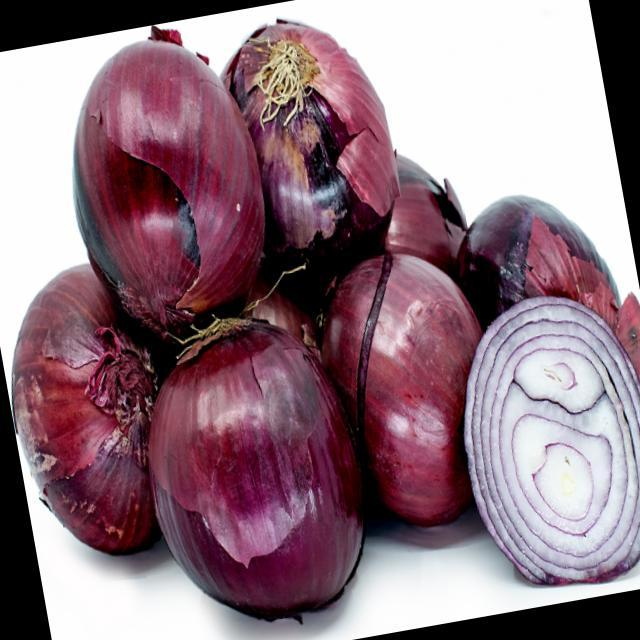ONIONS: (118, 314, 362, 631), (47, 24, 285, 331), (435, 246, 640, 598), (302, 229, 502, 531), (0, 247, 171, 566), (445, 154, 640, 398), (222, 4, 408, 258)
